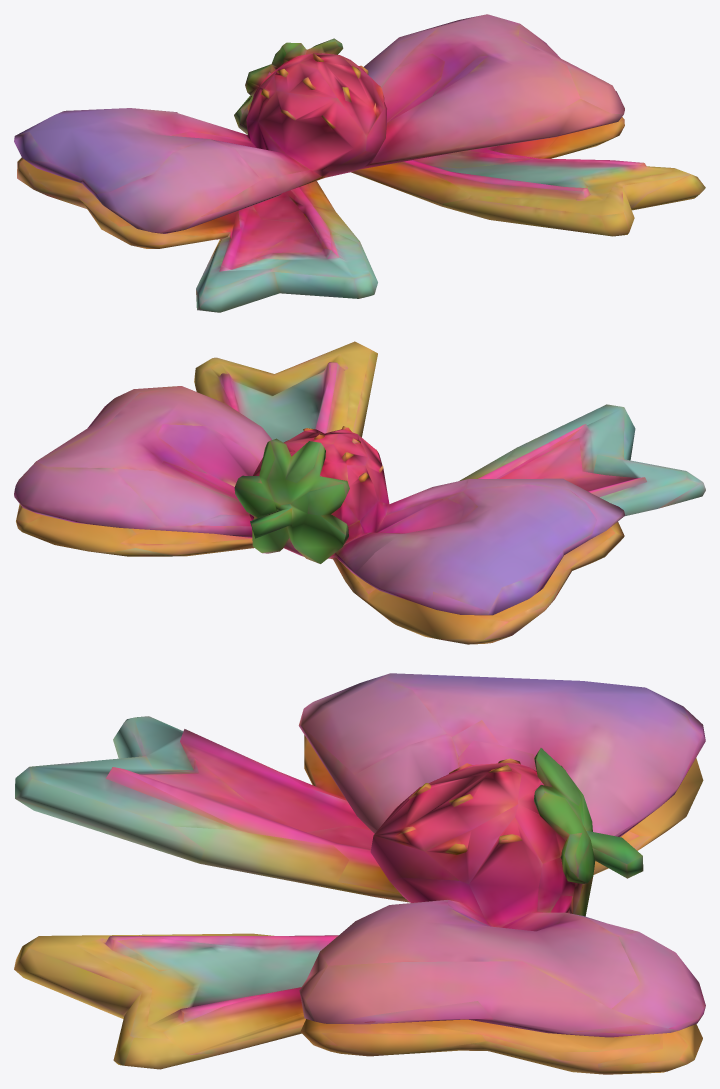
3 renders of one model, top to bottom at view 1: azimuth 30°, elevation 25°; view 2: azimuth 150°, elevation 25°; view 3: azimuth 270°, elevation 25°, orthographic. The views are drawn at different scales.
Visible parts, largest first — view 1: material; view 2: material; view 3: material.
Boxes of the visible parts, box(x1,y1,x2,y2) form: material: box(14, 14, 705, 312); material: box(14, 341, 705, 644); material: box(14, 673, 705, 1074).
Bounding box in the file's own units: 1 × 0.2302 × 0.8505.
Materials: 1 (1 with a texture image).
